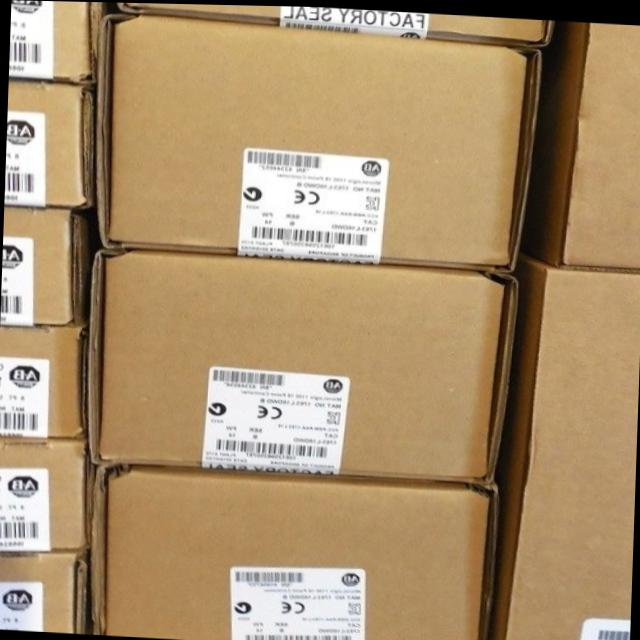box: (99, 15, 545, 269), (86, 249, 516, 482), (86, 463, 498, 640), (484, 246, 640, 640), (521, 19, 640, 268), (118, 2, 554, 42), (5, 80, 94, 208), (0, 436, 86, 553), (0, 324, 88, 437), (1, 209, 86, 324), (9, 0, 100, 86), (0, 551, 88, 632)
